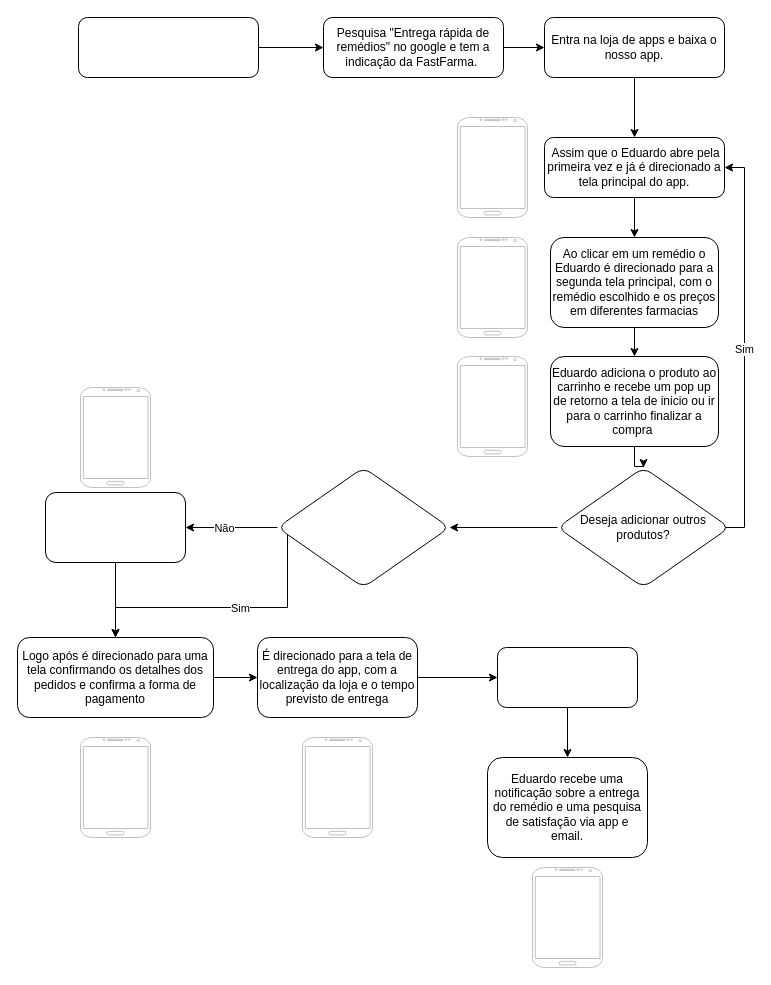
This 771x985 diagram has some shape labels left out. Here are the shapes that lost their labels. From the top down, the centre of each, then its label:
(168,47): Eduardo está precisando pedir os seus remédios
(115,527): Eduardo é direcionado para uma tela de cadastro para concluir a compra
(363,527): Já possui login?
(567,677): Eduardo recebe o seu produto dentro do tempo previsto.
